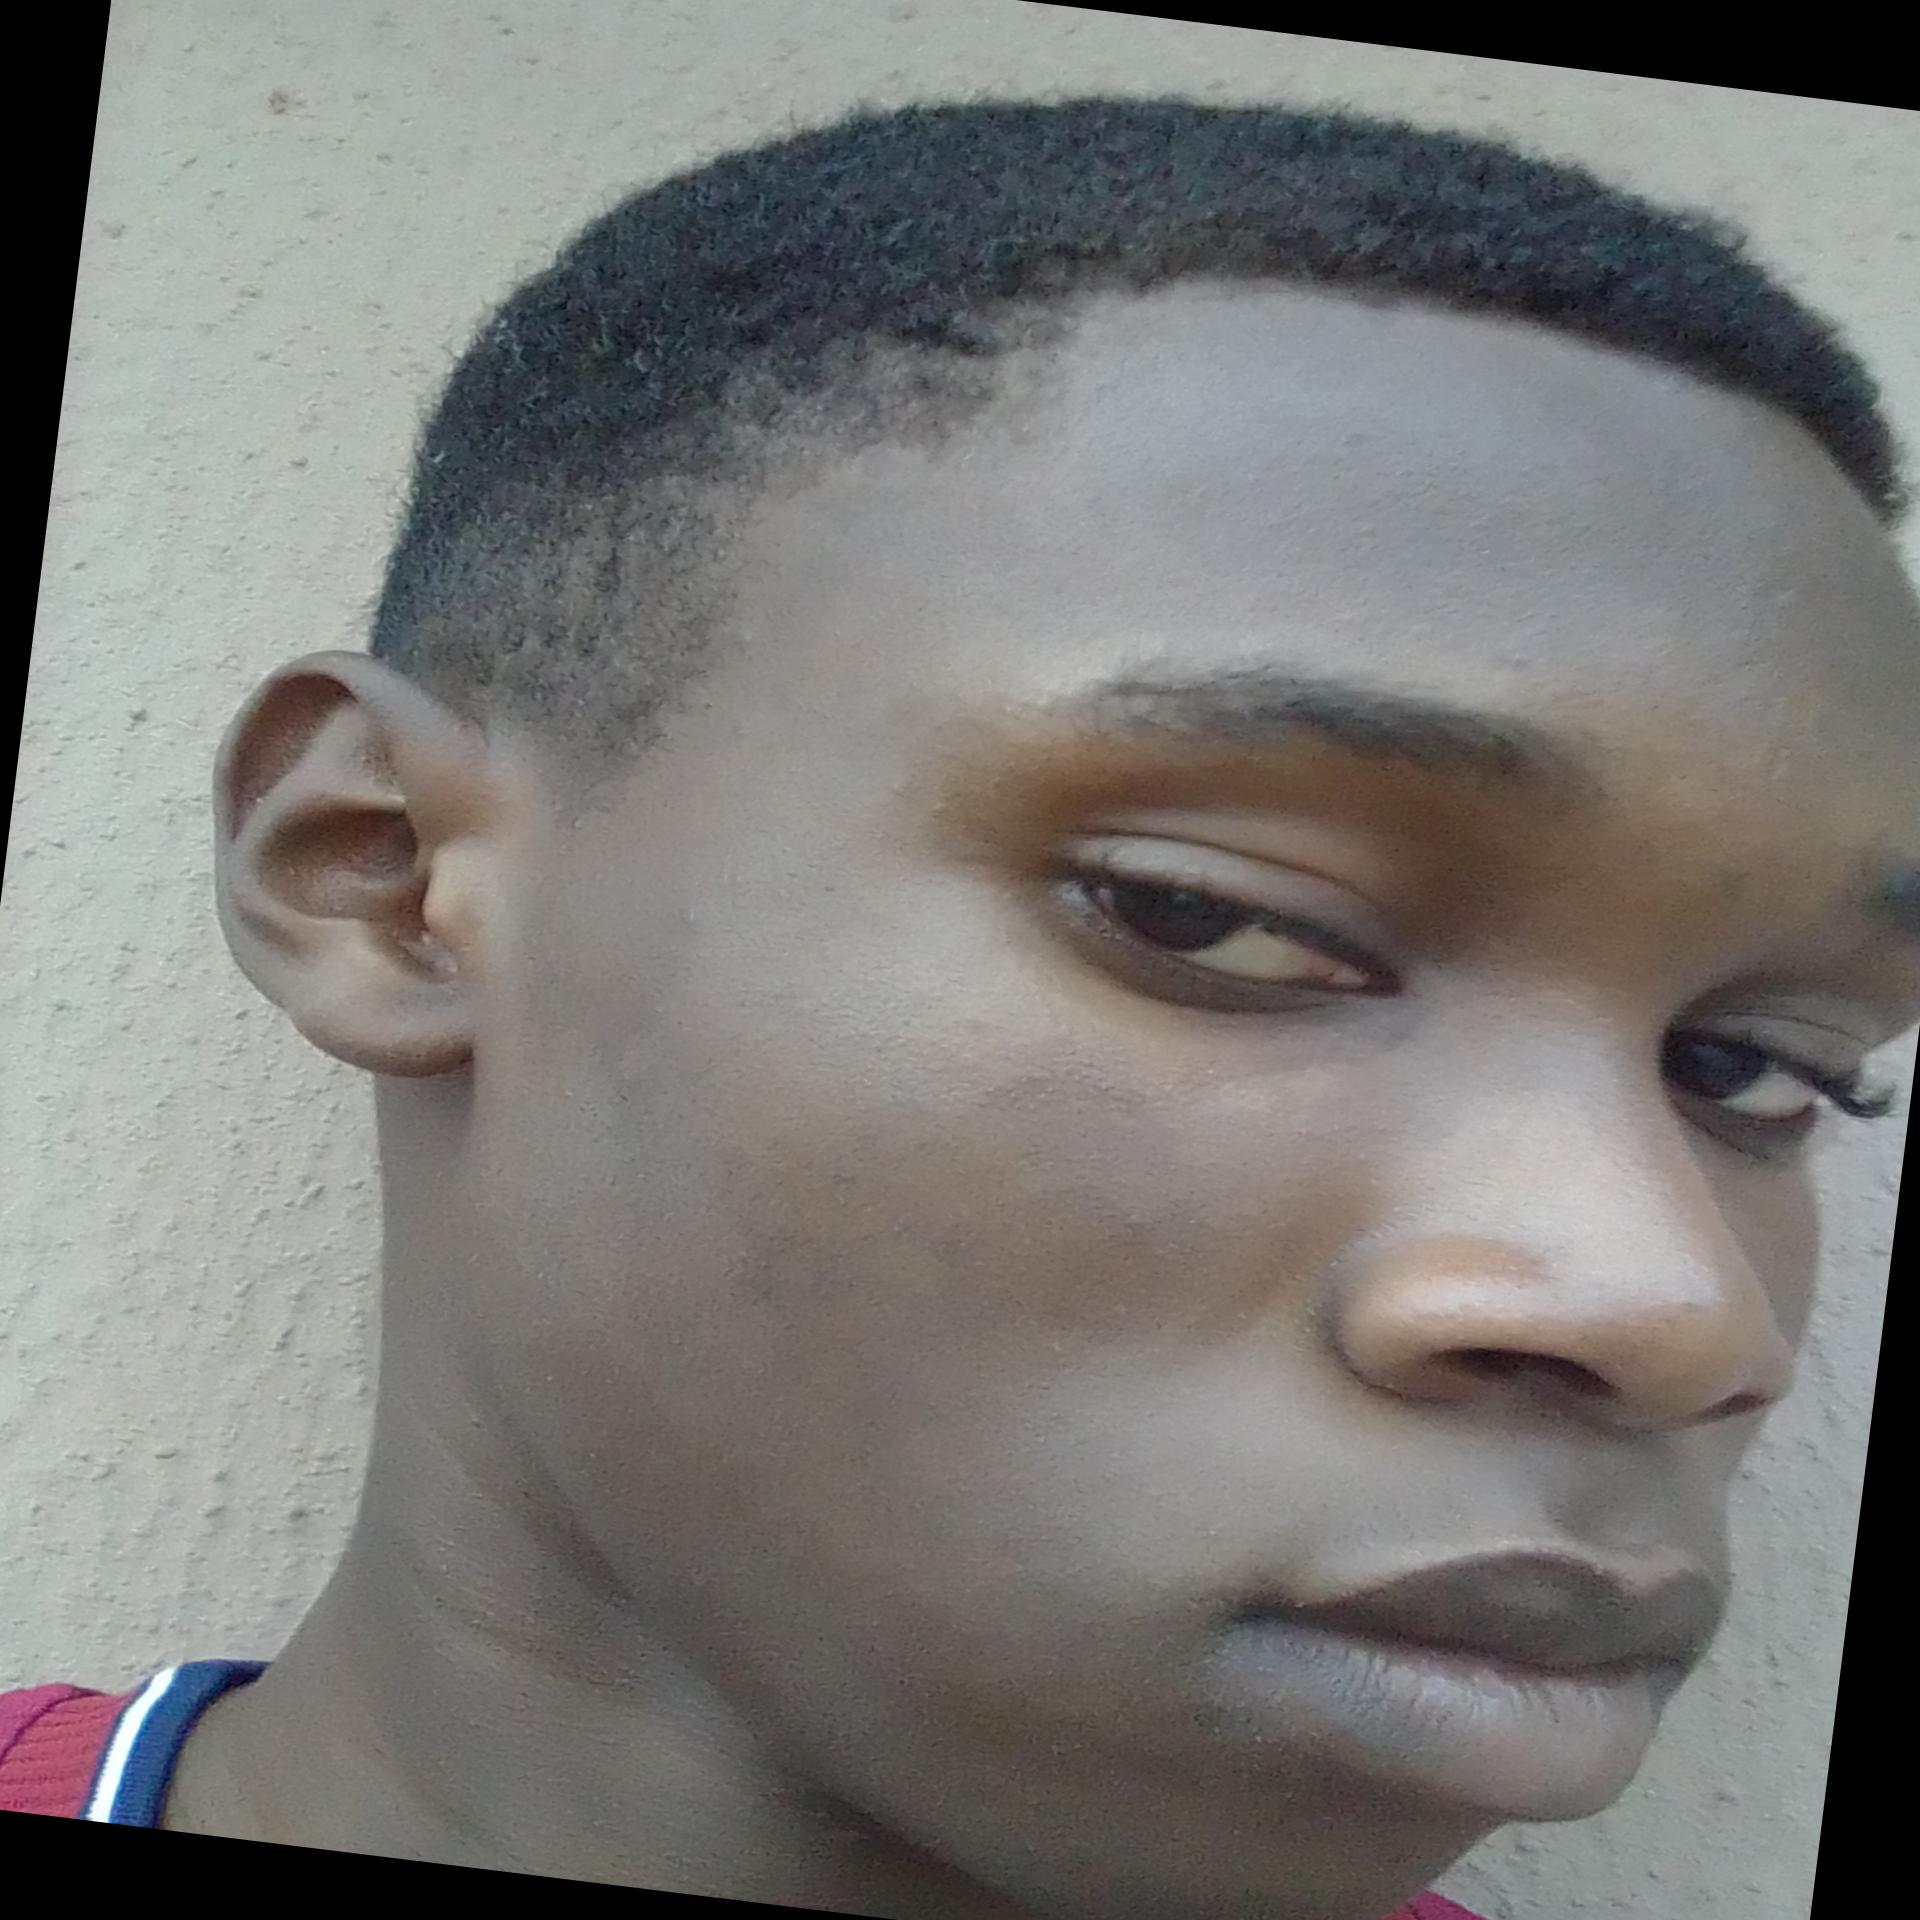Acne: (730, 1248, 789, 1315), (1109, 1203, 1155, 1241), (661, 893, 702, 934)
